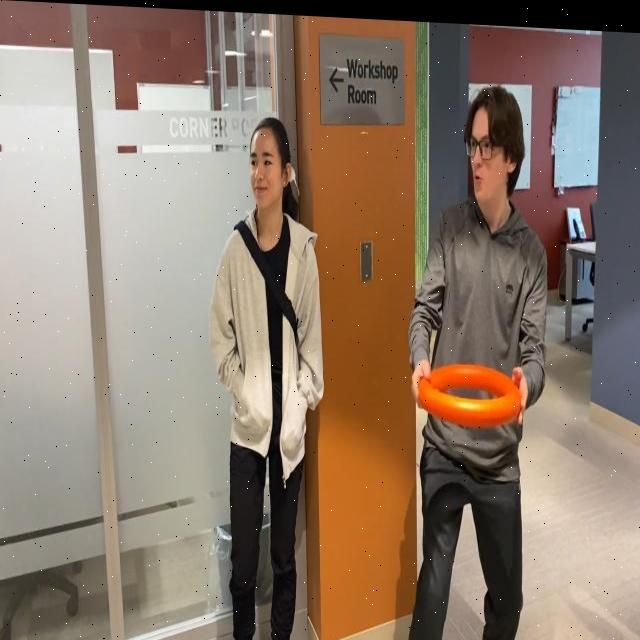note: (414, 351, 525, 424)
